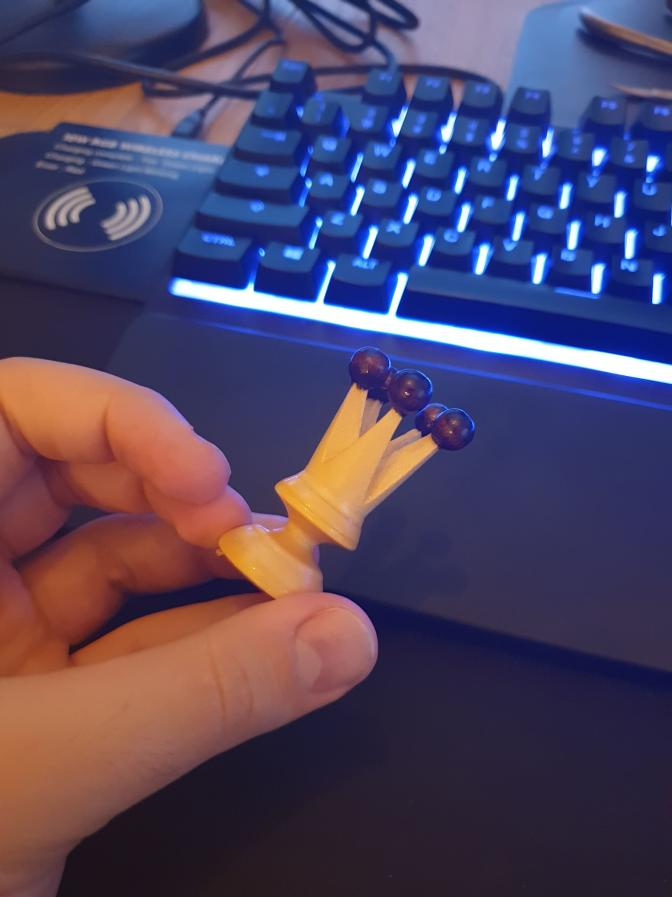wqueen: (216, 344, 479, 607)
